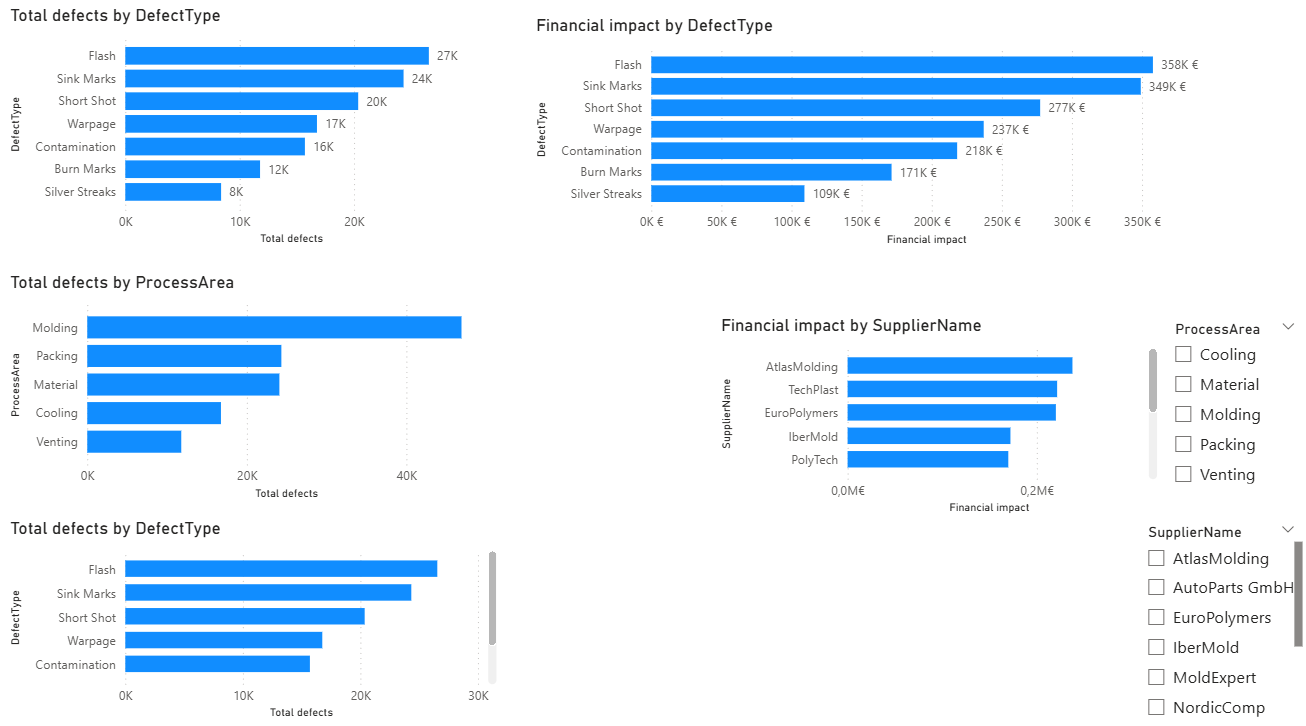

The dashboard page shown, as its layout file describes it:
{"tool":"powerbi","page":{"name":"Root Cause Analysis","canvas":[1280,720],"ordinal":2},"visuals":[{"type":"clusteredBarChart","fields":{"Category":["dimDefectTypes.DefectType"],"Y":["factProduction.Total defects"]},"box":[13,14,456,238],"z":0},{"type":"clusteredBarChart","fields":{"Category":["dimDefectTypes.DefectType"],"Y":["factProduction.Financial impact"]},"box":[524,23,677,229],"z":1},{"type":"clusteredBarChart","fields":{"Category":["dimDefectTypes.ProcessArea"],"Y":["factProduction.Total defects"]},"box":[13,273,483,226],"z":2},{"type":"slicer","fields":{"Values":["dimDefectTypes.ProcessArea"]},"box":[1138,315,142,207],"z":3},{"type":"clusteredBarChart","fields":{"Y":["factProduction.Financial impact"],"Category":["dimSuppliers.SupplierName"]},"box":[704,315,434,198],"z":4},{"type":"slicer","fields":{"Values":["dimSuppliers.SupplierName"]},"box":[1112,513,168,200],"z":5},{"type":"clusteredBarChart","fields":{"Category":["dimDefectTypes.DefectType"],"Y":["factProduction.Total defects"]},"box":[13,513,483,200],"z":6}]}

Visuals, with their boxes in screenshot pixels (x1, y1, x2, y2), scaled from the page's 1280x720 canvas onto the 1306x726 screenshot:
clusteredBarChart - dimDefectTypes.DefectType x factProduction.Total defects: locate(13, 14, 479, 254)
clusteredBarChart - dimDefectTypes.DefectType x factProduction.Financial impact: locate(535, 23, 1225, 254)
clusteredBarChart - dimDefectTypes.ProcessArea x factProduction.Total defects: locate(13, 275, 506, 503)
slicer - dimDefectTypes.ProcessArea: locate(1161, 318, 1305, 526)
clusteredBarChart - factProduction.Financial impact x dimSuppliers.SupplierName: locate(718, 318, 1161, 517)
slicer - dimSuppliers.SupplierName: locate(1135, 517, 1305, 719)
clusteredBarChart - dimDefectTypes.DefectType x factProduction.Total defects: locate(13, 517, 506, 719)
